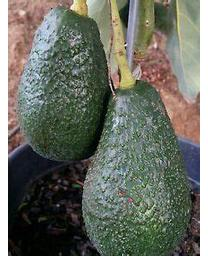avocado: (82, 77, 191, 253), (19, 7, 112, 162)
